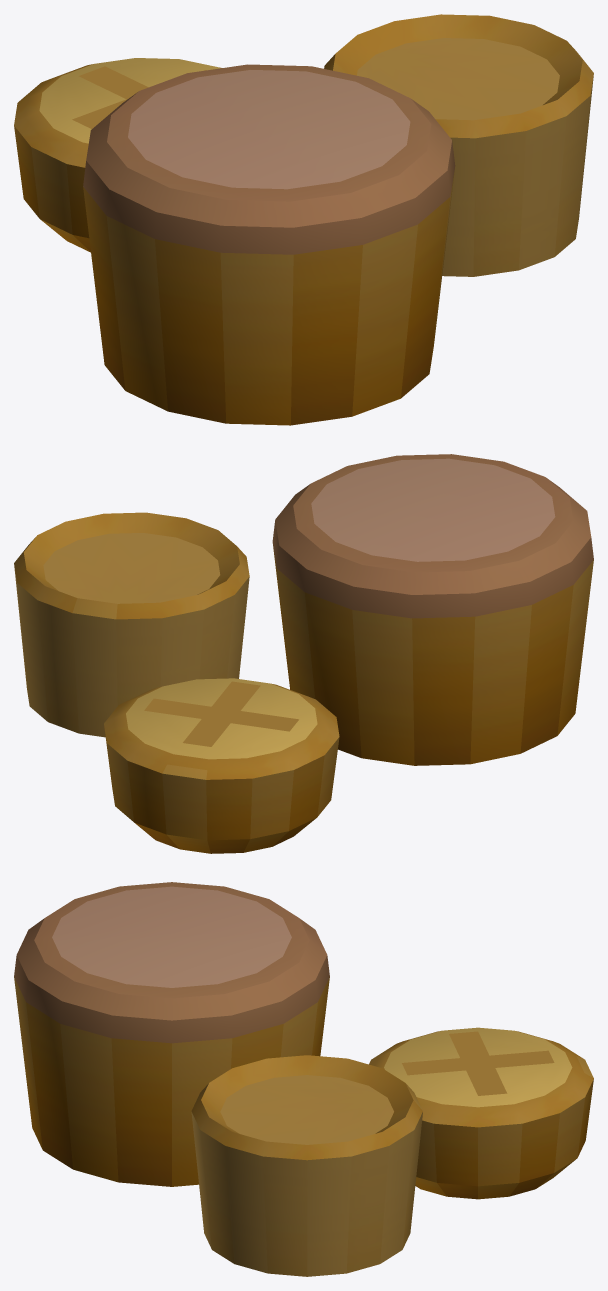
Rendered from SM_Boxes_01.fbx.
3 renders of one model, top to bottom at view 1: azimuth 30°, elevation 25°; view 2: azimuth 150°, elevation 25°; view 3: azimuth 270°, elevation 25°, orthographic. The views are drawn at different scales.
Visible parts, largest first — view 1: SM_Boxes_01; view 2: SM_Boxes_01; view 3: SM_Boxes_01.
Part boxes in pixels (x1,y1,x2,y2): SM_Boxes_01: [14, 14, 593, 425]; SM_Boxes_01: [14, 454, 593, 853]; SM_Boxes_01: [14, 882, 593, 1276].
Bounding box in the file's own units: 0.9892 × 0.4321 × 1.07.
